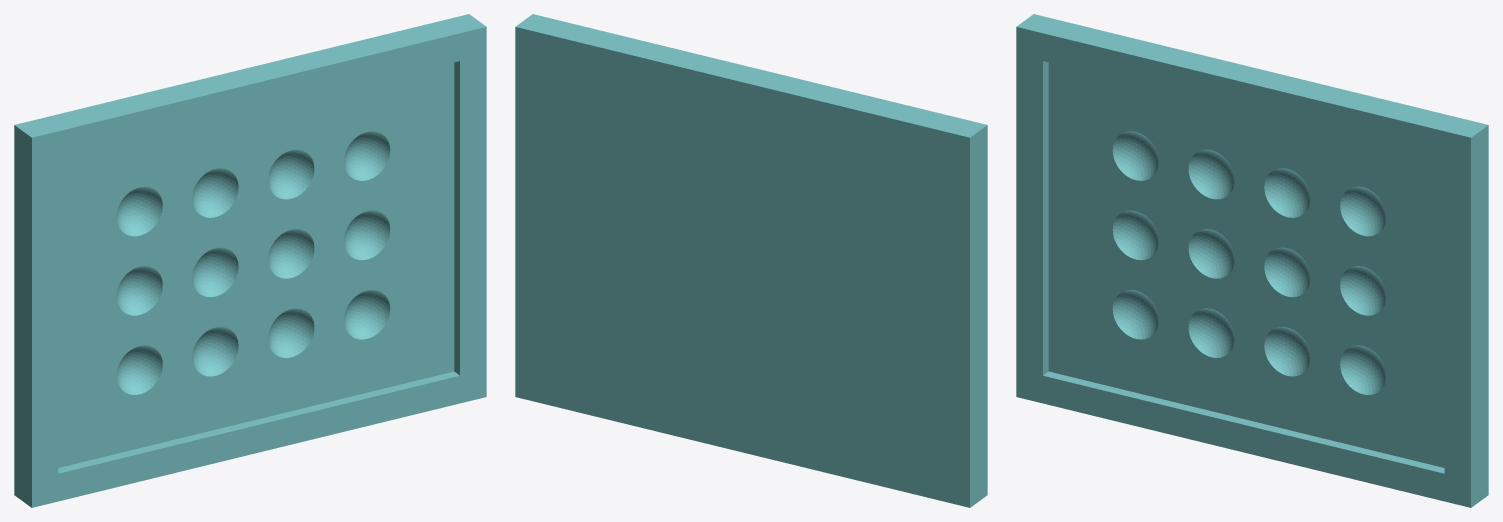
The model's file is ep2-popit.glb.
The picture shows the model from 3 angles, left to right: view 1: azimuth 30°, elevation 25°; view 2: azimuth 150°, elevation 25°; view 3: azimuth 330°, elevation 25°; orthographic projection.
Parts seen in each view (by area): view 1: world; view 2: world; view 3: world.
Boxes of the visible parts, x1,y1,x2,y2 form: world: [14, 14, 486, 507]; world: [515, 14, 987, 507]; world: [1016, 14, 1488, 507].
Size of the model in its own units: 90 by 70 by 6.
